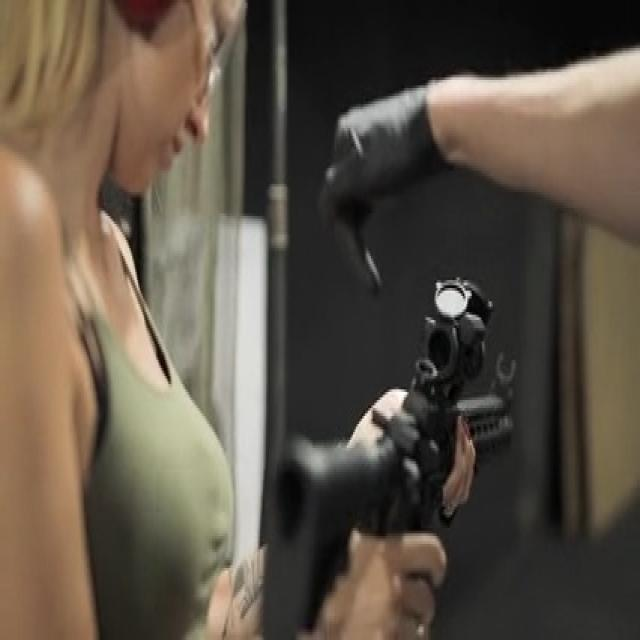Gun_Holder: (231, 272, 632, 630)
Person: (0, 0, 436, 640)
